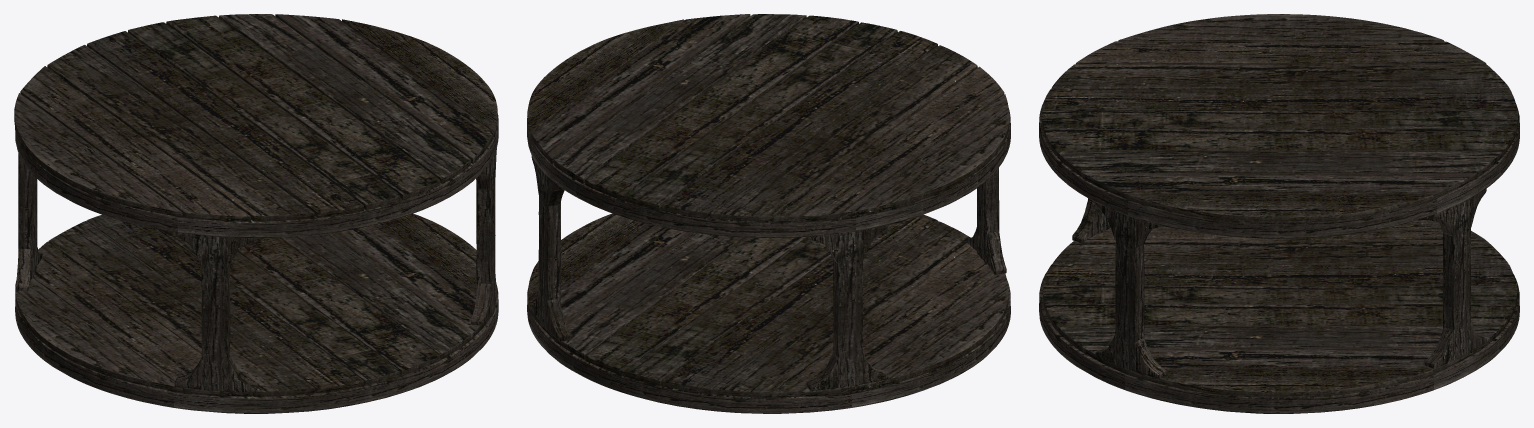
Rendered from LFMF1697.obj.
The picture shows the model from 3 angles, left to right: view 1: azimuth 30°, elevation 25°; view 2: azimuth 150°, elevation 25°; view 3: azimuth 270°, elevation 25°; orthographic projection.
Parts seen in each view (by area): view 1: not_clear_obj_0_v6, not_clear_obj_1_v6; view 2: not_clear_obj_0_v6, not_clear_obj_1_v6; view 3: not_clear_obj_0_v6, not_clear_obj_1_v6.
Boxes of the visible parts, left/top/right/bottom form: not_clear_obj_0_v6: left=14, top=14, right=498, bottom=391; not_clear_obj_1_v6: left=15, top=148, right=498, bottom=413; not_clear_obj_0_v6: left=527, top=14, right=1010, bottom=387; not_clear_obj_1_v6: left=527, top=155, right=1010, bottom=413; not_clear_obj_0_v6: left=1039, top=14, right=1519, bottom=371; not_clear_obj_1_v6: left=1039, top=188, right=1519, bottom=413.
Size of what is drawn, in the model's own units: 102 by 45.72 by 101.
